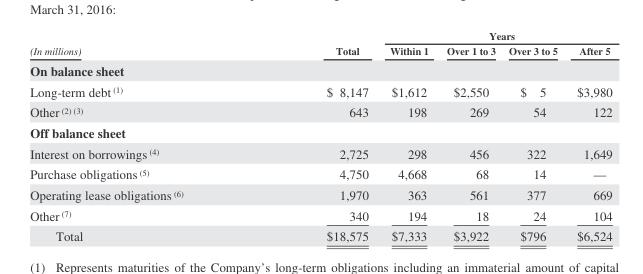table: (29, 29, 611, 243)
table column: (29, 29, 254, 243), (254, 29, 378, 243), (436, 29, 501, 243), (501, 29, 566, 243), (378, 29, 436, 243), (566, 29, 611, 243)
table column header: (29, 29, 611, 59)
table projected row header: (29, 59, 611, 80), (29, 122, 611, 142)
table row: (29, 59, 611, 80), (29, 80, 611, 101), (29, 101, 611, 122), (29, 142, 611, 163), (29, 163, 611, 184), (29, 204, 611, 225), (29, 122, 611, 142), (29, 184, 611, 204), (29, 225, 611, 243), (29, 42, 611, 59), (29, 29, 611, 42)
table spanning cell: (29, 29, 254, 59), (254, 29, 378, 59), (378, 29, 611, 42)
